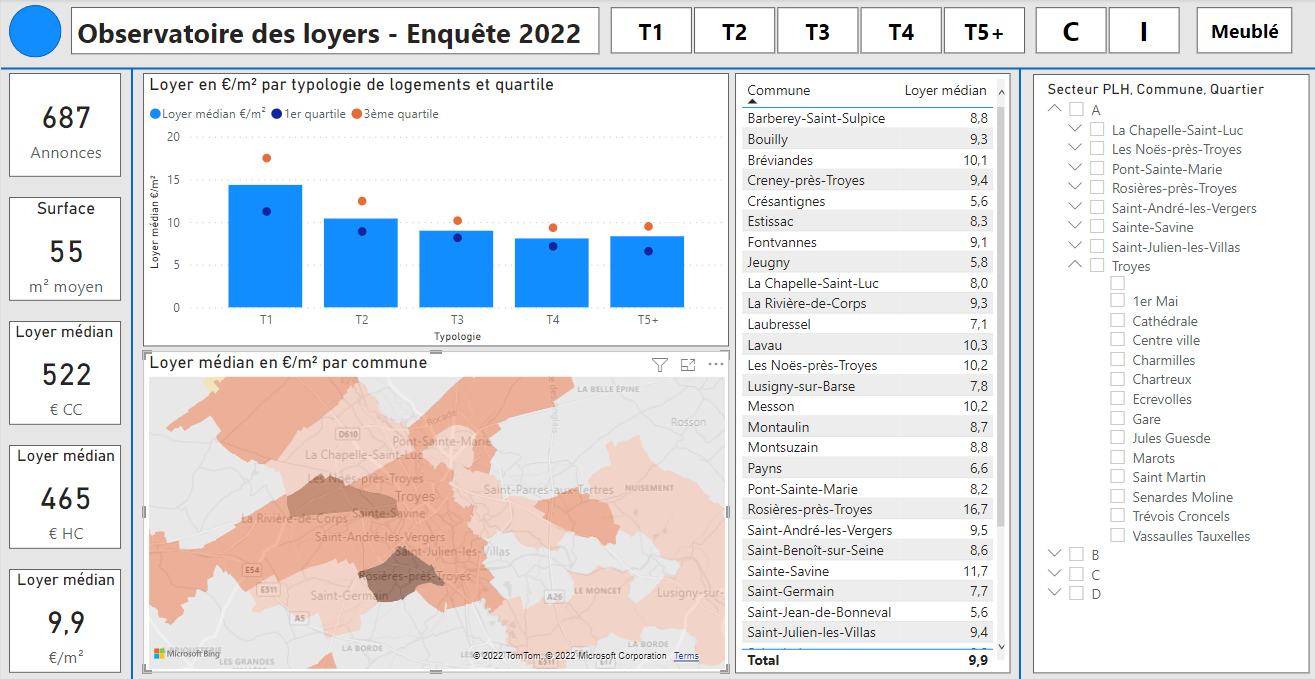

The dashboard page shown, as its layout file describes it:
{"tool":"powerbi","page":{"name":"Page 1","canvas":[1280,720],"ordinal":0},"visuals":[{"type":"shape","box":[7.8,5.8,50.6,50.6],"z":0},{"type":"textbox","box":[68.1,7.8,513.6,45.7],"z":1000},{"type":"shape","box":[57.7,67.3,140.1,597.4],"z":2000},{"type":"shape","box":[921.5,67.3,140.1,597.4],"z":3000},{"type":"shape","box":[0,32,1280,71.4],"z":4000},{"type":"card","fields":{"Values":["Feuil1._Nombre d'annonces"]},"box":[7.8,72,108.9,101.2],"z":5000},{"type":"card","title":"Surface","fields":{"Values":["Avg(Feuil1.Surface)"]},"box":[7.8,192.6,108.9,101.2],"z":6000},{"type":"card","title":"Loyer médian","fields":{"Values":["Median(Feuil1.Loyer CC)"]},"box":[7.8,313.2,108.9,101.2],"z":7000},{"type":"card","title":"Loyer médian","fields":{"Values":["Median(Feuil1.Loyer HC)"]},"box":[7.8,433.8,108.9,101.2],"z":8000},{"type":"card","title":"Loyer médian","fields":{"Values":["Feuil1._Médiane loyer"]},"box":[7.8,554.4,108.9,101.2],"z":9000},{"type":"lineClusteredColumnComboChart","title":"Loyer en €/m² par typologie de logements et quartile","fields":{"Category":["Feuil1.Nb pièces (groupes)"],"Y":["Median(Feuil1.Loyer m²)"],"Y2":["Feuil1.1er quartile","Feuil1.3ème quartile"]},"box":[138.1,72,570,265.5],"z":10000},{"type":"tableEx","fields":{"Values":["Feuil1.Commune","Feuil1._Médiane loyer"]},"box":[713.9,72,268.4,583.6],"z":11000},{"type":"slicer","fields":{"Values":["Feuil1.Secteur PLH","Feuil1.Commune","Feuil1.Quartier"]},"box":[1003.8,72.9,269.4,582.6],"z":12000},{"type":"shape","box":[0,629.3,1280,72],"z":13000},{"type":"filledMap","title":"Loyer médian en €/m² par commune","fields":{"Category":["Référentiel.Libellé commune ou ARM"],"Y":["Min(Référentiel.latitude)"],"X":["Min(Référentiel.longitude)"]},"box":[138.1,342.4,570,313.2],"z":14000},{"type":"textbox","box":[7.8,667.2,242.2,45.7],"z":15000},{"type":"textbox","box":[1055.3,667.2,224.7,45.7],"z":16000},{"type":"textbox","box":[518.4,675,242.2,31.1],"z":17000},{"type":"slicer","fields":{"Values":["Feuil1.Nb pièces (groupes)"]},"box":[567.2,1.4,453.2,59.1],"z":18000},{"type":"slicer","fields":{"Values":["Feuil1.Type"]},"box":[982.4,3,187.7,52.5],"z":19000},{"type":"slicer","fields":{"Values":["Feuil1.Meublé"]},"box":[1138.5,3,141.5,54.9],"z":20000}]}

Visuals, with their boxes on the page's 1280x720 design canvas (x1, y1, x2, y2). These are canvas units, not pixel positions in the 1315x679 screenshot, which may show the page scaled, cropped or inside an application window:
shape: 8,6,58,56
textbox: 68,8,582,54
shape: 58,67,198,665
shape: 922,67,1062,665
shape: 0,32,1280,103
card - Feuil1._Nombre d'annonces: 8,72,117,173
"Surface" card: 8,193,117,294
"Loyer médian" card: 8,313,117,414
"Loyer médian" card: 8,434,117,535
"Loyer médian" card: 8,554,117,656
"Loyer en €/m² par typologie de logements et quartile" lineClusteredColumnComboChart: 138,72,708,338
tableEx - Feuil1.Commune x Feuil1._Médiane loyer: 714,72,982,656
slicer - Feuil1.Secteur PLH x Feuil1.Commune: 1004,73,1273,656
shape: 0,629,1280,701
"Loyer médian en €/m² par commune" filledMap: 138,342,708,656
textbox: 8,667,250,713
textbox: 1055,667,1280,713
textbox: 518,675,761,706
slicer - Feuil1.Nb pièces (groupes): 567,1,1020,60
slicer - Feuil1.Type: 982,3,1170,56
slicer - Feuil1.Meublé: 1138,3,1280,58
